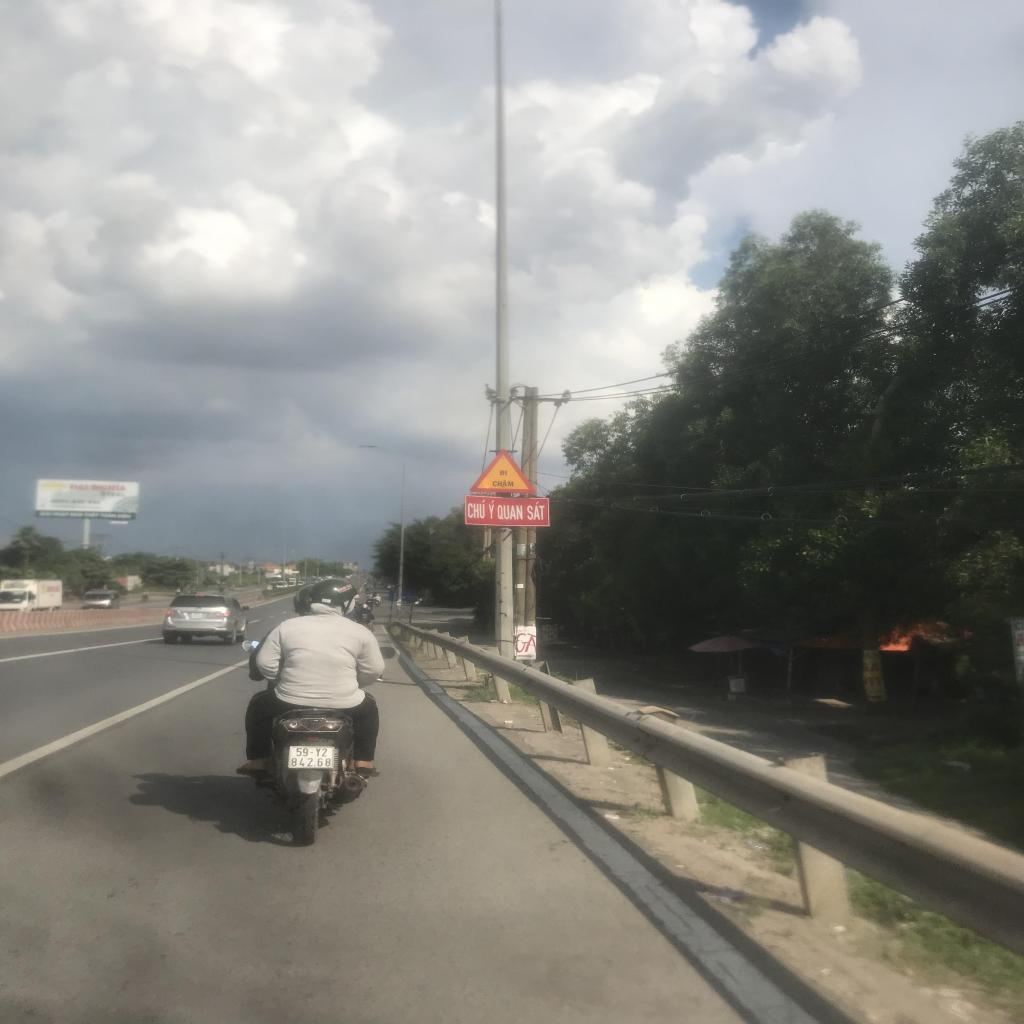di_cham: (469, 448, 537, 493)
